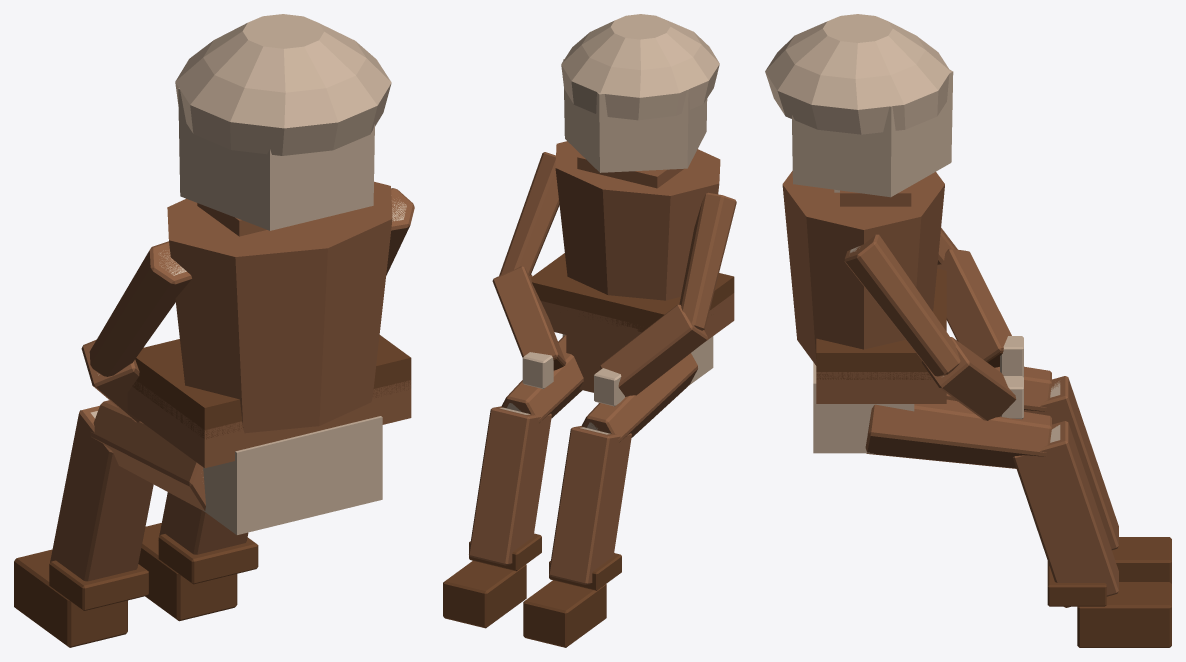
The model's file is seated.glb.
The picture shows the model from 3 angles, left to right: view 1: azimuth 30°, elevation 25°; view 2: azimuth 150°, elevation 25°; view 3: azimuth 270°, elevation 25°; orthographic projection. The views are drawn at different scales.
Visible parts, largest first — view 1: fabric, skin, leather; view 2: fabric, skin, leather; view 3: fabric, skin, leather.
Part boxes in pixels (<box>): fabric: <box>50,181,414,581</box>; skin: <box>90,14,406,534</box>; leather: <box>14,335,411,647</box>; fabric: <box>469,141,736,584</box>; skin: <box>499,14,719,434</box>; leather: <box>443,253,734,647</box>; fabric: <box>782,171,1118,607</box>; skin: <box>765,14,1060,453</box>; leather: <box>816,268,1171,647</box>.
Size of the model in its own units: 0.4647 by 1.09 by 0.6868.
